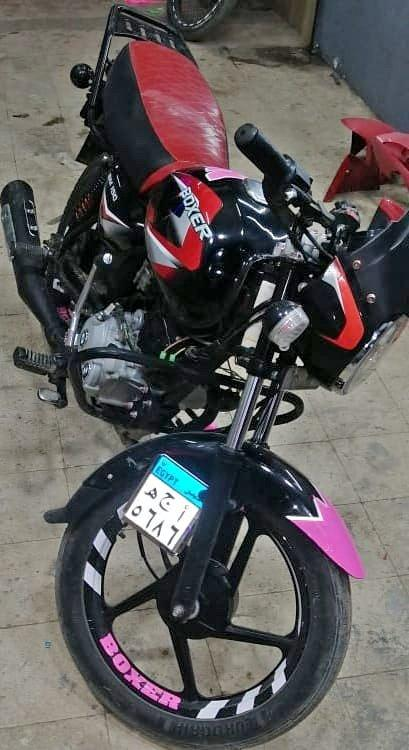License Plate: (127, 449, 207, 555)
